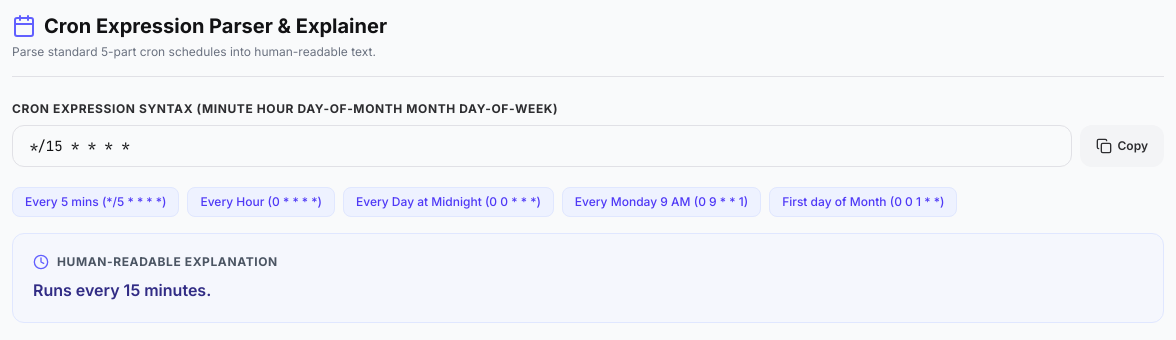
Test case: CronTool Component › updates explanation when preset buttons are clicked
What coordinates should you click on to do the following:
click the button "Every Hour (0 * * * *)"
I would click on:
 (261, 202)
Its box is top-left (188, 187), bottom-right (335, 217).
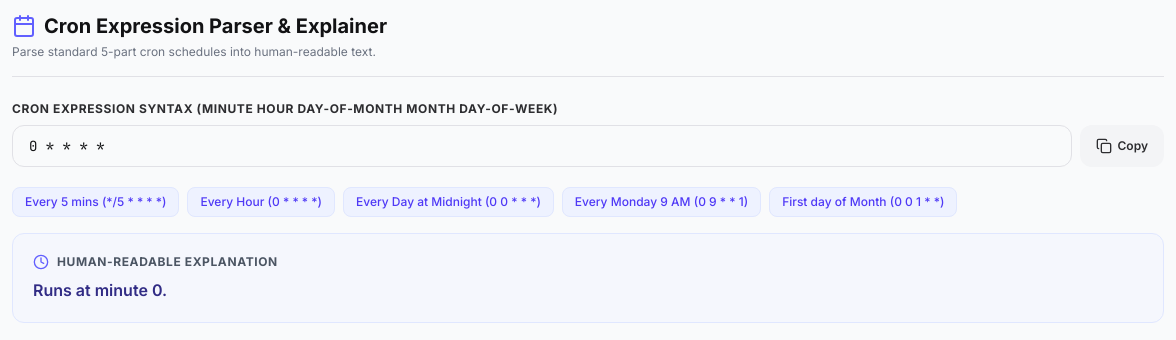
Expected: the text "Runs at minute 0." is shown, top-left (33, 280), bottom-right (167, 300)
